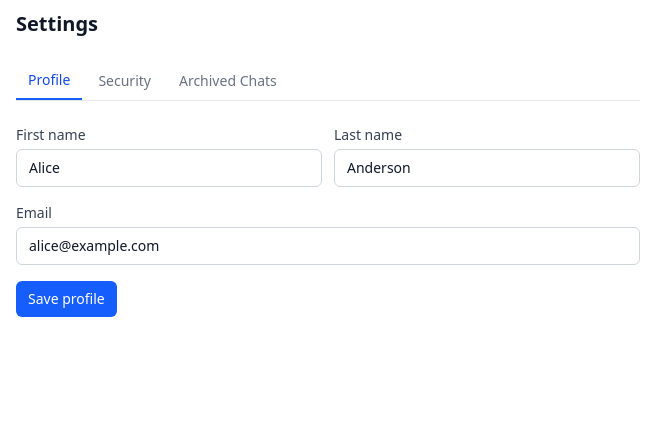
Test: SettingsPage - Security tab › shows the backend's error message when the current password is wrong
Click the button "Security" at (125, 81), box [86, 62, 163, 100]
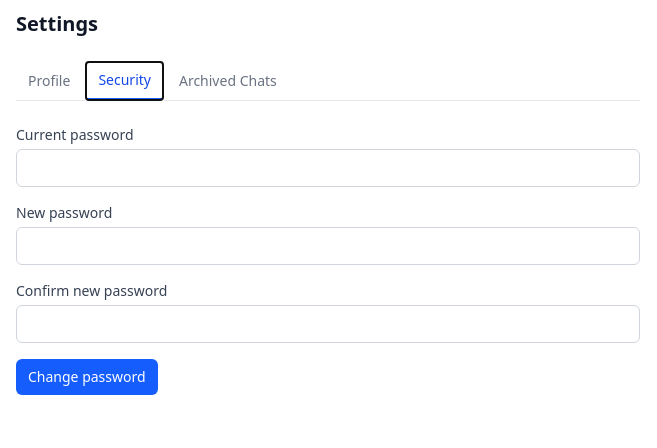
Type "wrong-password" into the password field labelled "Current password" at (328, 168), box [16, 149, 640, 187]
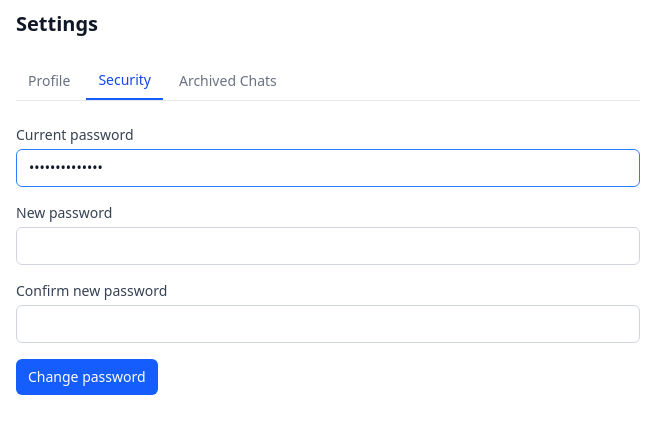
Type "newpassword123" into the password field labelled "New password" at (328, 246), box [16, 227, 640, 265]
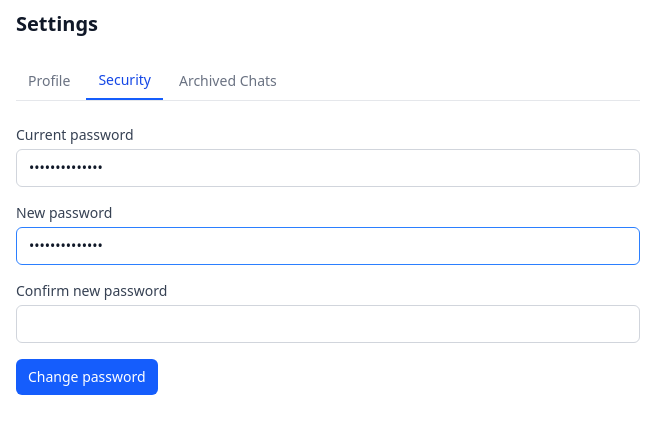
Type "newpassword123" into the password field labelled "Confirm new password" at (328, 324), box [16, 305, 640, 343]
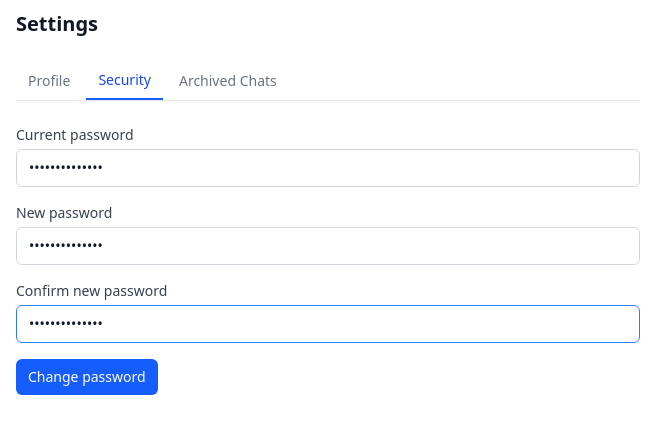
Click the button "Change password" at (87, 377), box [16, 359, 158, 395]
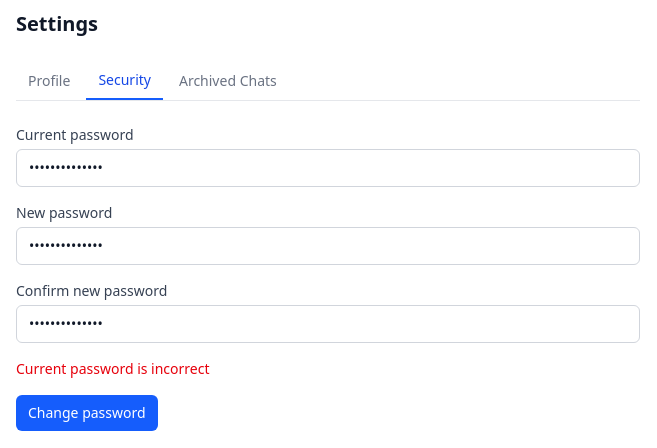
Result: the text "Current password is incorrect" is shown at [16, 359, 210, 378]
